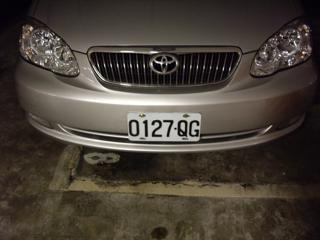plate: (124, 111, 205, 142)
